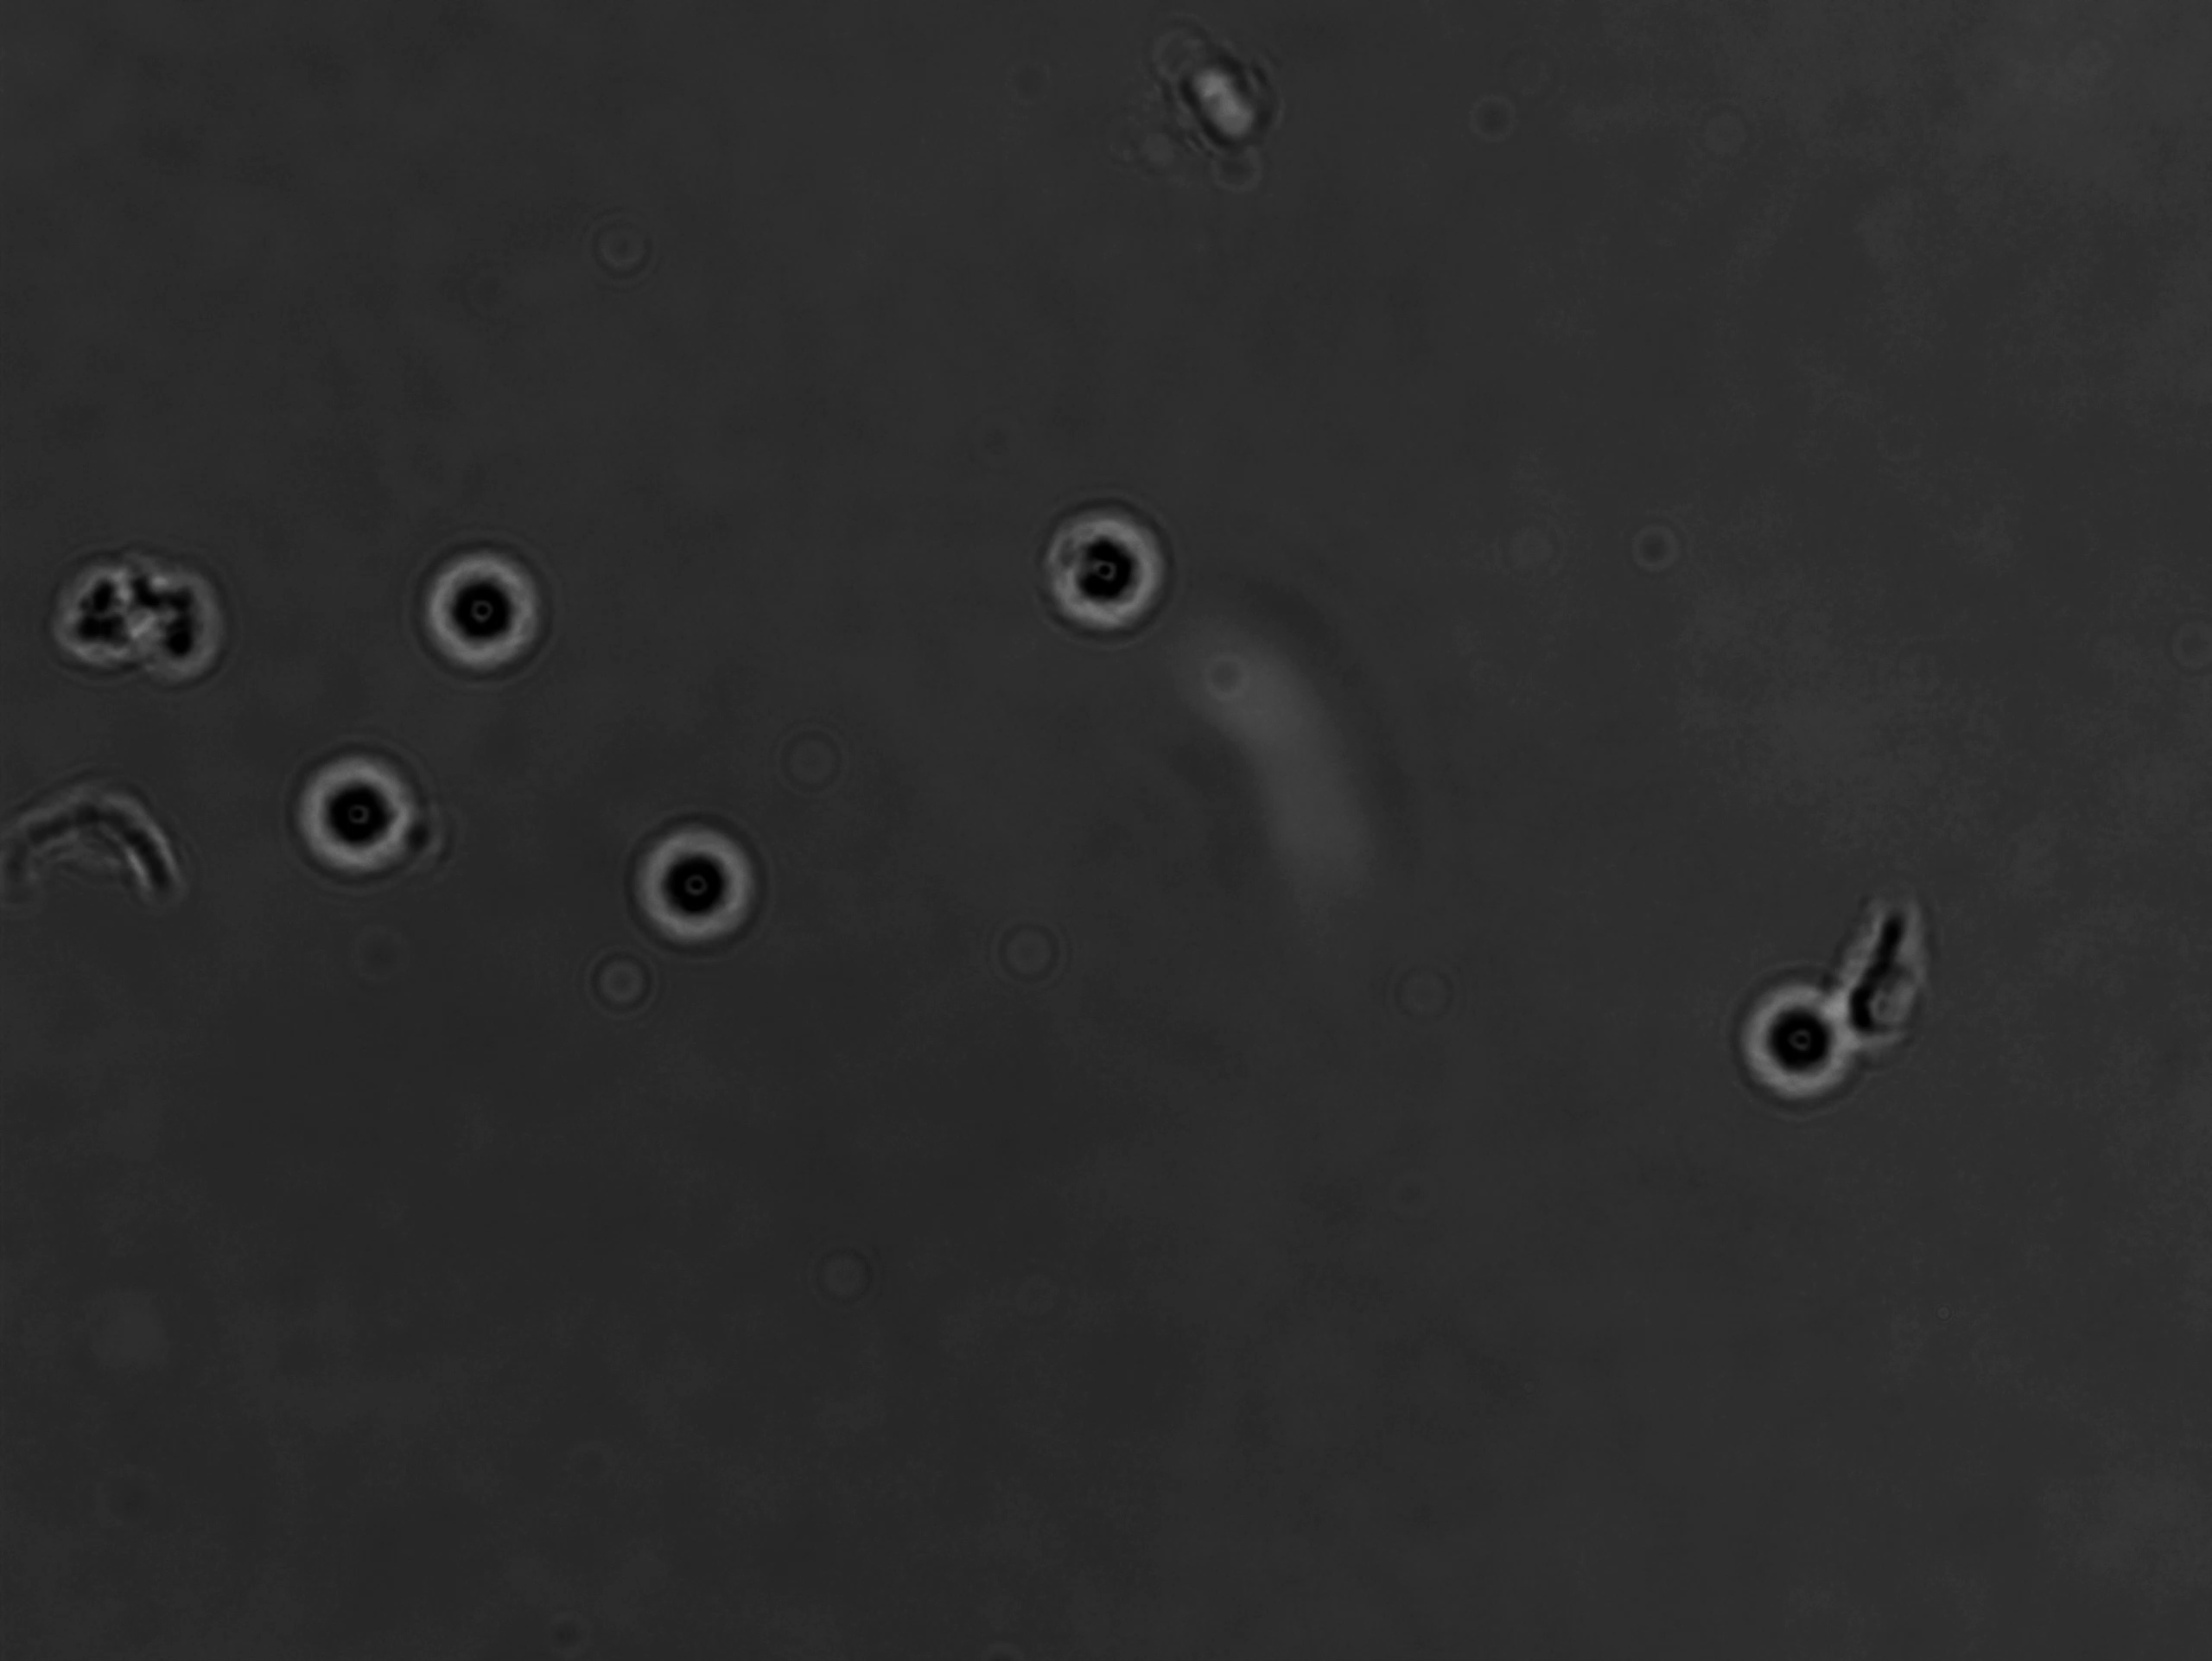depth:-20: (614, 794, 785, 975), (1026, 478, 1197, 653), (1727, 942, 1882, 1124), (403, 530, 569, 694), (269, 726, 434, 888)
